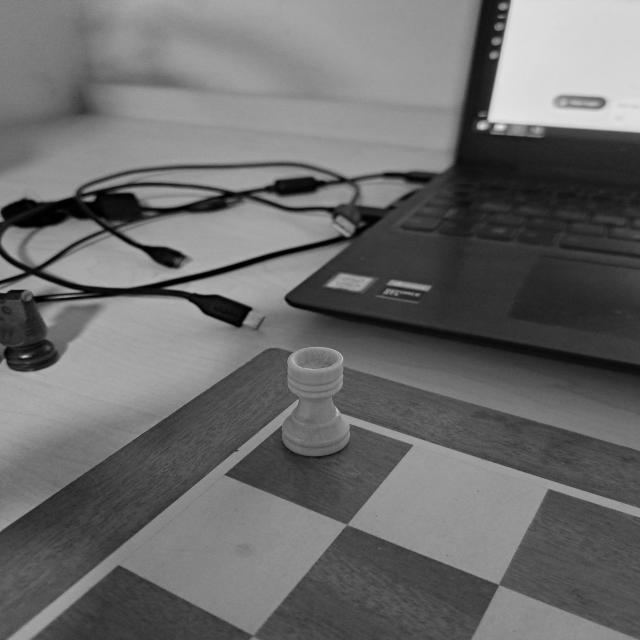chess-table-corners: (241, 381, 375, 448)
